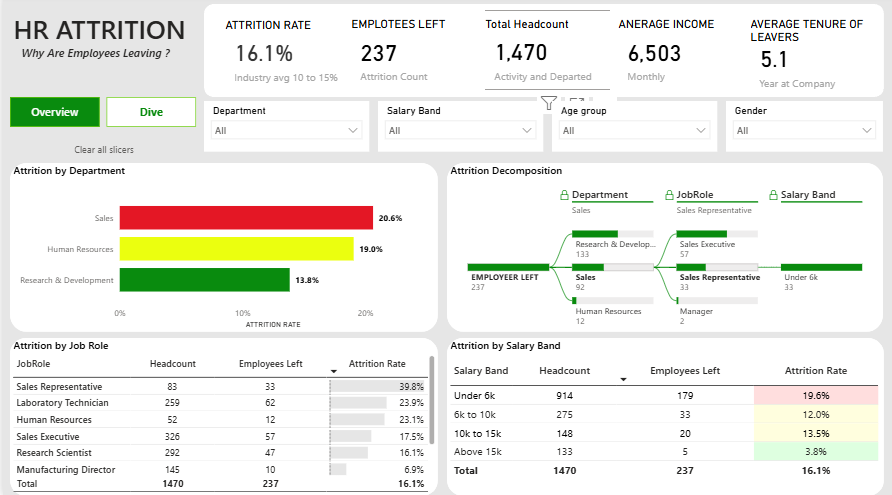

The dashboard page shown, as its layout file describes it:
{"tool":"powerbi","page":{"name":"Overview","canvas":[1280,720],"ordinal":0},"visuals":[{"type":"shape","box":[10.1,240.5,616.3,243.4],"z":0},{"type":"shape","box":[289.4,11.5,979.2,133.9],"z":1000},{"type":"textbox","box":[10.1,17.3,269.3,109.4],"z":2000},{"type":"advanceCardE03760C5AB684758B56AA29F9E6C257B","title":"Total Headcount","fields":{"mainMeasure":["HR-Employee-Attrition.Total Headcount"]},"box":[682.4,20.2,203.4,115.6],"z":3000},{"type":"advanceCardE03760C5AB684758B56AA29F9E6C257B","title":"AVERAGE TENURE OF LEAVERS","fields":{"mainMeasure":["HR-Employee-Attrition.AVERAGE TENURE OF LEAVERS"]},"box":[1064.2,20.2,203,116.6],"z":4000},{"type":"advanceCardE03760C5AB684758B56AA29F9E6C257B","title":"ANERAGE INCOME","fields":{"mainMeasure":["HR-Employee-Attrition.AVERAGE INCOME"]},"box":[873.5,20.2,203,116.6],"z":5000},{"type":"advanceCardE03760C5AB684758B56AA29F9E6C257B","title":"ATTRITION RATE","fields":{"mainMeasure":["HR-Employee-Attrition.ATTRITION RATE"]},"box":[307.5,20.9,203,116.4],"z":6000},{"type":"advanceCardE03760C5AB684758B56AA29F9E6C257B","title":"EMPLOTEES LEFT","fields":{"mainMeasure":["HR-Employee-Attrition.EMPLOYEER LEFT"]},"box":[490.2,20.2,204.5,116.6],"z":7000},{"type":"slicer","fields":{"Values":["HR-Employee-Attrition.Age group"]},"box":[790.6,151.2,237.6,73.4],"z":8000},{"type":"slicer","fields":{"Values":["HR-Employee-Attrition.Department"]},"box":[289.4,151.2,237.6,73.4],"z":9000},{"type":"slicer","fields":{"Values":["HR-Employee-Attrition.Salary Band"]},"box":[540,151.2,237.6,73.4],"z":10000},{"type":"actionButton","box":[64.8,194.4,161.3,50.4],"z":11000},{"type":"pageNavigator","box":[10.1,145.4,269.3,43.2],"z":12000},{"type":"barChart","title":"Attrition by Department","fields":{"Category":["HR-Employee-Attrition.Department"],"Y":["HR-Employee-Attrition.ATTRITION RATE"]},"box":[10,240,617.1,242.9],"z":13000},{"type":"slicer","fields":{"Values":["HR-Employee-Attrition.Gender"]},"box":[1041.1,151.2,226.1,73.4],"z":14000},{"type":"shape","box":[639.4,240.5,627.8,243.4],"z":14500},{"type":"decompositionTreeVisual","title":"Attrition Decomposition","fields":{"Analyze":["HR-Employee-Attrition.EMPLOYEER LEFT"],"ExplainBy":["HR-Employee-Attrition.Department","HR-Employee-Attrition.JobRole","HR-Employee-Attrition.Salary Band"]},"box":[640,240,627.1,242.9],"z":15000},{"type":"shape","box":[10.1,492.5,616.3,227.5],"z":15500},{"type":"pivotTable","title":"Attrition by Job Role","fields":{"Rows":["HR-Employee-Attrition.JobRole"],"Values":["HR-Employee-Attrition.Total Headcount","HR-Employee-Attrition.EMPLOYEER LEFT","HR-Employee-Attrition.ATTRITION RATE"]},"box":[10,493,617,227],"z":16000},{"type":"shape","box":[639.4,492.5,629.3,227.5],"z":16500},{"type":"pivotTable","title":"Attrition by Salary Band","fields":{"Rows":["HR-Employee-Attrition.Salary Band"],"Values":["HR-Employee-Attrition.Total Headcount","HR-Employee-Attrition.EMPLOYEER LEFT","HR-Employee-Attrition.ATTRITION RATE"]},"box":[640,493,627,227],"z":17000}]}

Visuals, with their boxes in screenshot pixels (x1, y1, x2, y2), scaled from the page's 1280x720 canvas onto the 892x495 screenshot:
shape: <bbox>7, 165, 437, 333</bbox>
shape: <bbox>202, 8, 884, 100</bbox>
textbox: <bbox>7, 12, 195, 87</bbox>
"Total Headcount" advanceCardE03760C5AB684758B56AA29F9E6C257B: <bbox>476, 14, 617, 93</bbox>
"AVERAGE TENURE OF LEAVERS" advanceCardE03760C5AB684758B56AA29F9E6C257B: <bbox>742, 14, 883, 94</bbox>
"ANERAGE INCOME" advanceCardE03760C5AB684758B56AA29F9E6C257B: <bbox>609, 14, 750, 94</bbox>
"ATTRITION RATE" advanceCardE03760C5AB684758B56AA29F9E6C257B: <bbox>214, 14, 356, 94</bbox>
"EMPLOTEES LEFT" advanceCardE03760C5AB684758B56AA29F9E6C257B: <bbox>342, 14, 484, 94</bbox>
slicer - HR-Employee-Attrition.Age group: <bbox>551, 104, 717, 154</bbox>
slicer - HR-Employee-Attrition.Department: <bbox>202, 104, 367, 154</bbox>
slicer - HR-Employee-Attrition.Salary Band: <bbox>376, 104, 542, 154</bbox>
actionButton: <bbox>45, 134, 158, 168</bbox>
pageNavigator: <bbox>7, 100, 195, 130</bbox>
"Attrition by Department" barChart: <bbox>7, 165, 437, 332</bbox>
slicer - HR-Employee-Attrition.Gender: <bbox>726, 104, 883, 154</bbox>
shape: <bbox>446, 165, 883, 333</bbox>
"Attrition Decomposition" decompositionTreeVisual: <bbox>446, 165, 883, 332</bbox>
shape: <bbox>7, 339, 437, 494</bbox>
"Attrition by Job Role" pivotTable: <bbox>7, 339, 437, 494</bbox>
shape: <bbox>446, 339, 884, 494</bbox>
"Attrition by Salary Band" pivotTable: <bbox>446, 339, 883, 494</bbox>
